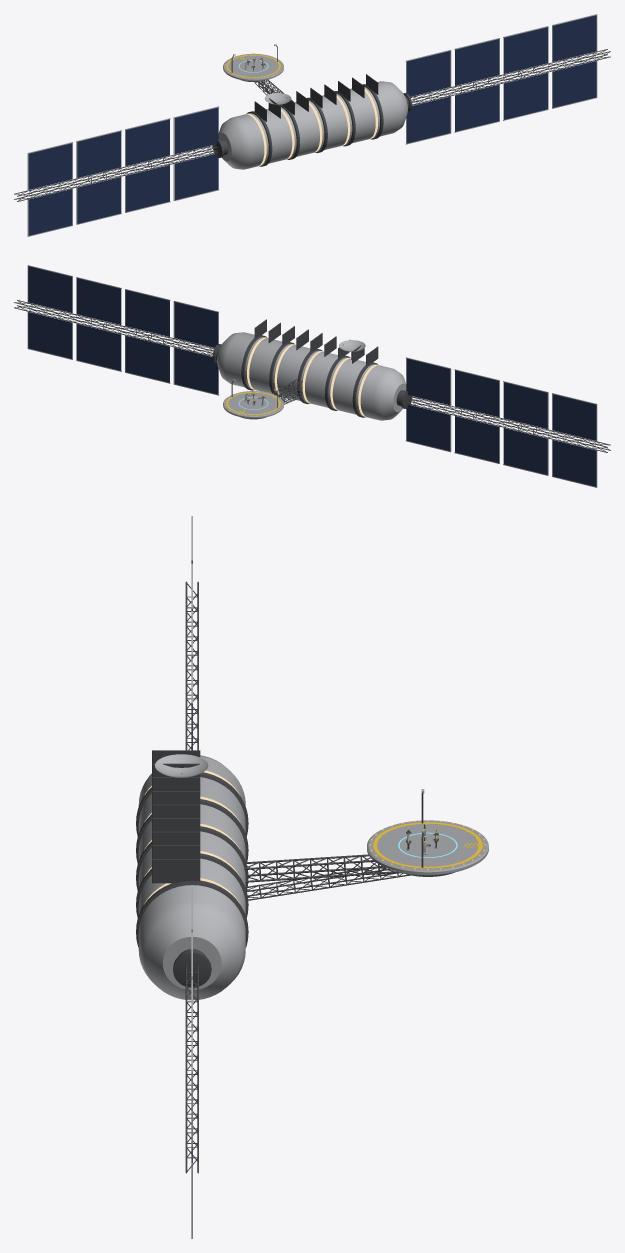
The model's file is station.glb.
The picture shows the model from 3 angles, top to bottom: view 1: azimuth 30°, elevation 25°; view 2: azimuth 150°, elevation 25°; view 3: azimuth 270°, elevation 25°; orthographic projection. The views are drawn at different scales.
Parts seen in each view (by area): view 1: Solar_1, Solar_-1, Hub, Boom_-1, Boom_1, Radiators, Pad, SolarFrame_-1, SolarFrame_1; view 2: Solar_1, Solar_-1, Hub, Boom_-1, Boom_1, Radiators, Pad, SolarFrame_-1, SolarFrame_1; view 3: Hub, Radiators, Pad, PadArm, Boom_1, PadArm2, Boom_-1, EndPort_1.
Boxes of the visible parts, x1,y1,x2,y2 form: Solar_1: [406, 15, 596, 143]; Solar_-1: [28, 107, 218, 235]; Hub: [218, 81, 407, 169]; Boom_-1: [14, 145, 218, 201]; Boom_1: [410, 49, 610, 105]; Radiators: [254, 74, 378, 121]; Pad: [223, 53, 283, 81]; SolarFrame_-1: [27, 106, 218, 236]; SolarFrame_1: [406, 14, 597, 144]; Solar_1: [28, 266, 218, 394]; Solar_-1: [406, 358, 596, 486]; Hub: [217, 332, 406, 420]; Boom_-1: [406, 396, 610, 452]; Boom_1: [14, 300, 214, 356]; Radiators: [254, 319, 378, 366]; Pad: [223, 391, 283, 418]; SolarFrame_-1: [406, 357, 597, 487]; SolarFrame_1: [27, 265, 218, 395]; Hub: [138, 755, 245, 1000]; Radiators: [152, 750, 200, 883]; Pad: [367, 820, 488, 875]; PadArm: [244, 854, 396, 882]; Boom_1: [185, 965, 198, 1173]; PadArm2: [246, 865, 410, 900]; Boom_-1: [185, 581, 198, 750]; EndPort_1: [173, 949, 211, 986].
Bounding box in the file's own units: 256 × 34.5 × 65.9.
